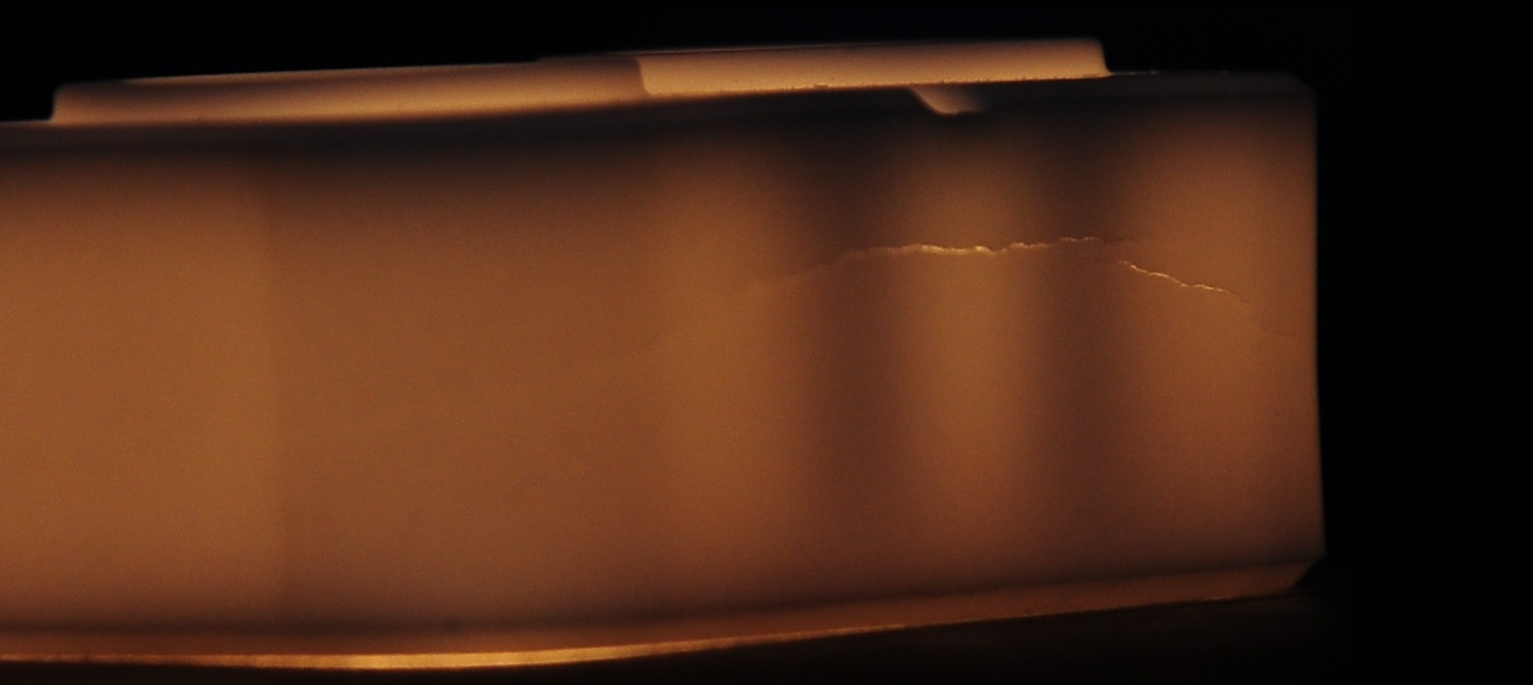flaw: (487, 211, 1279, 352)
